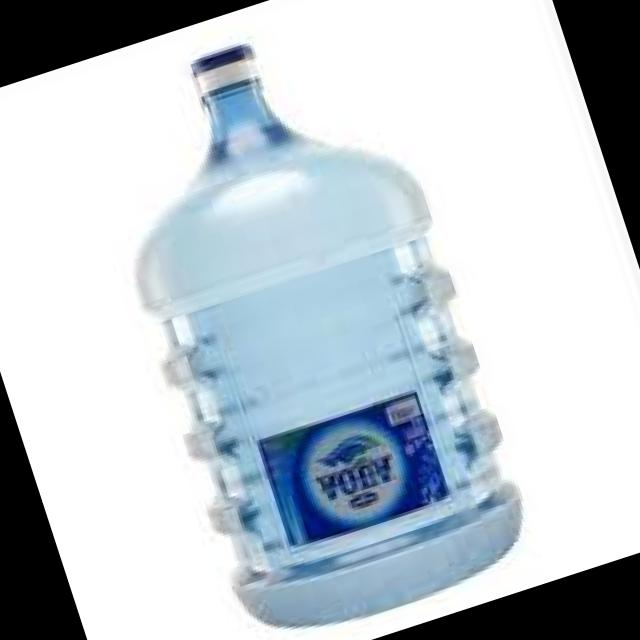Galon: (68, 0, 548, 640)
